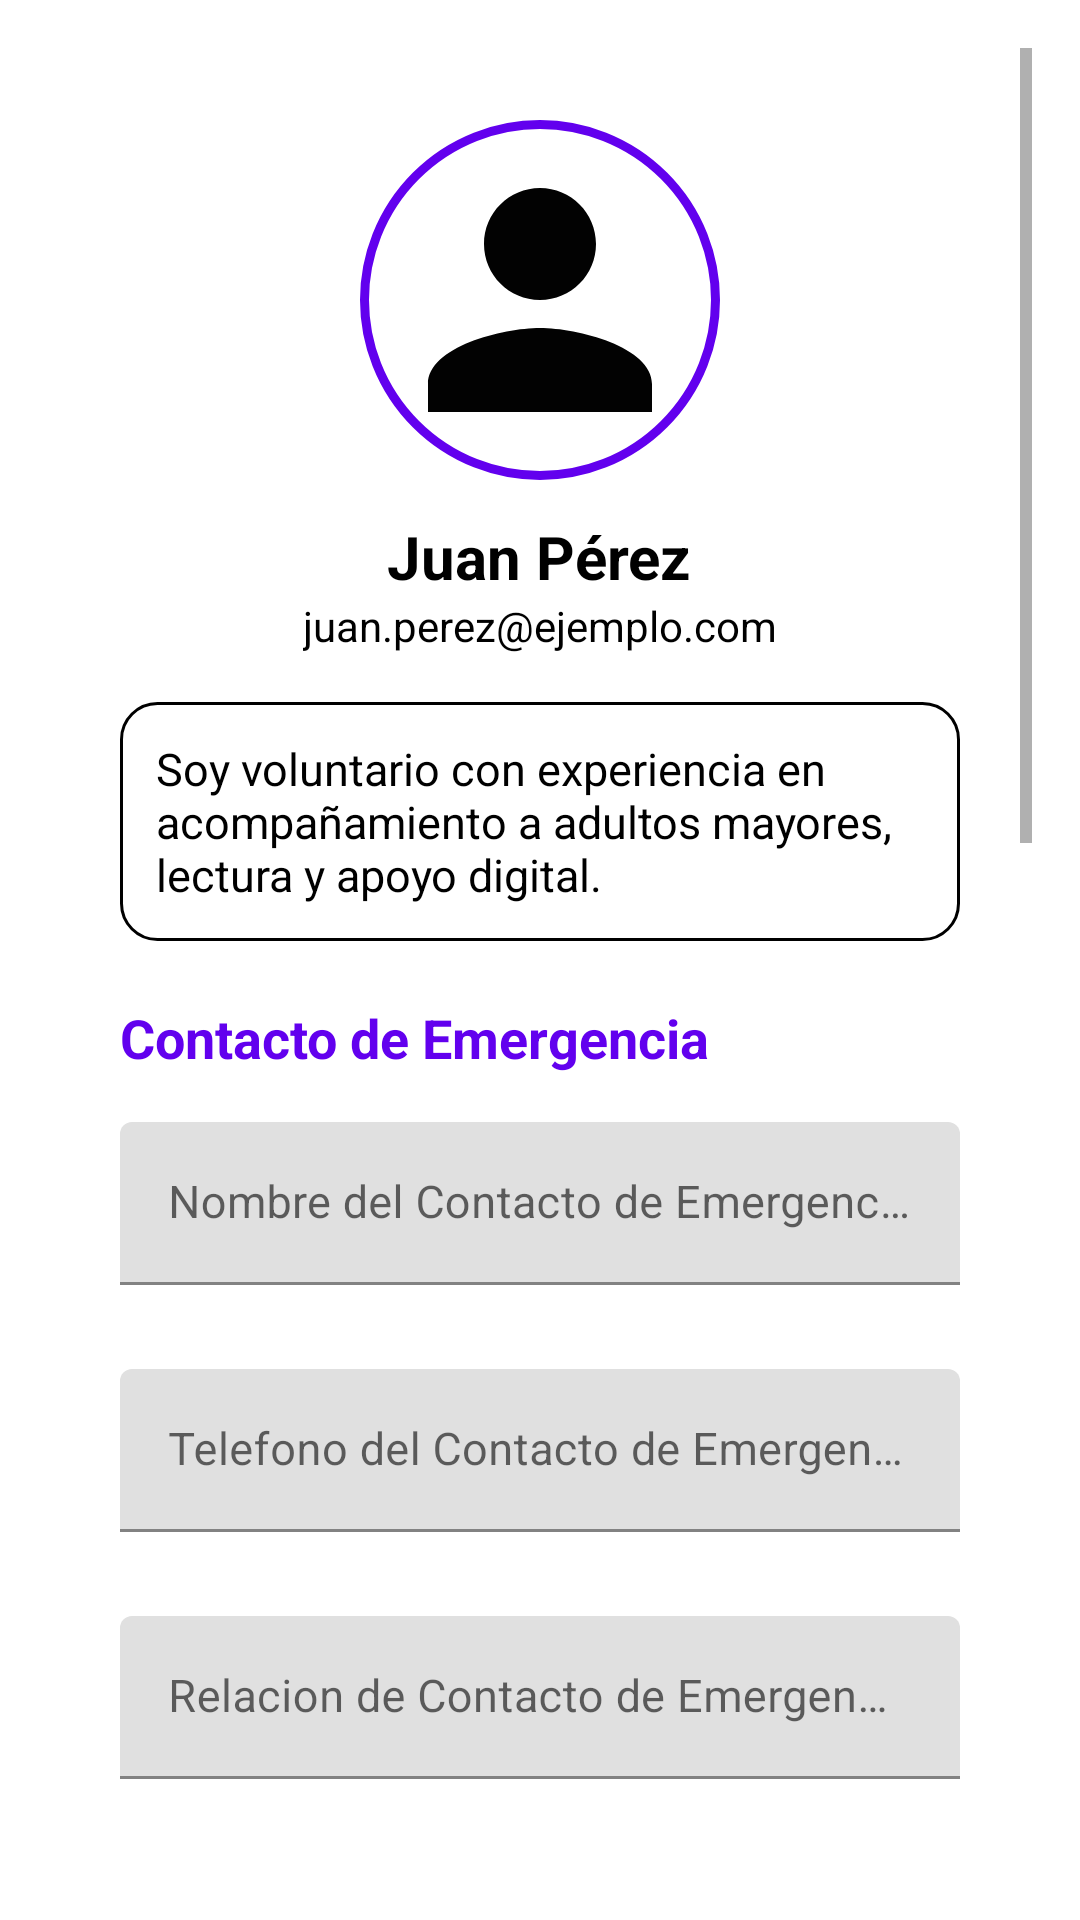

Named icons in this screenshot (1080px x 1920px) and their centers, (x=x, y=y):
person: (x=540, y=300)
